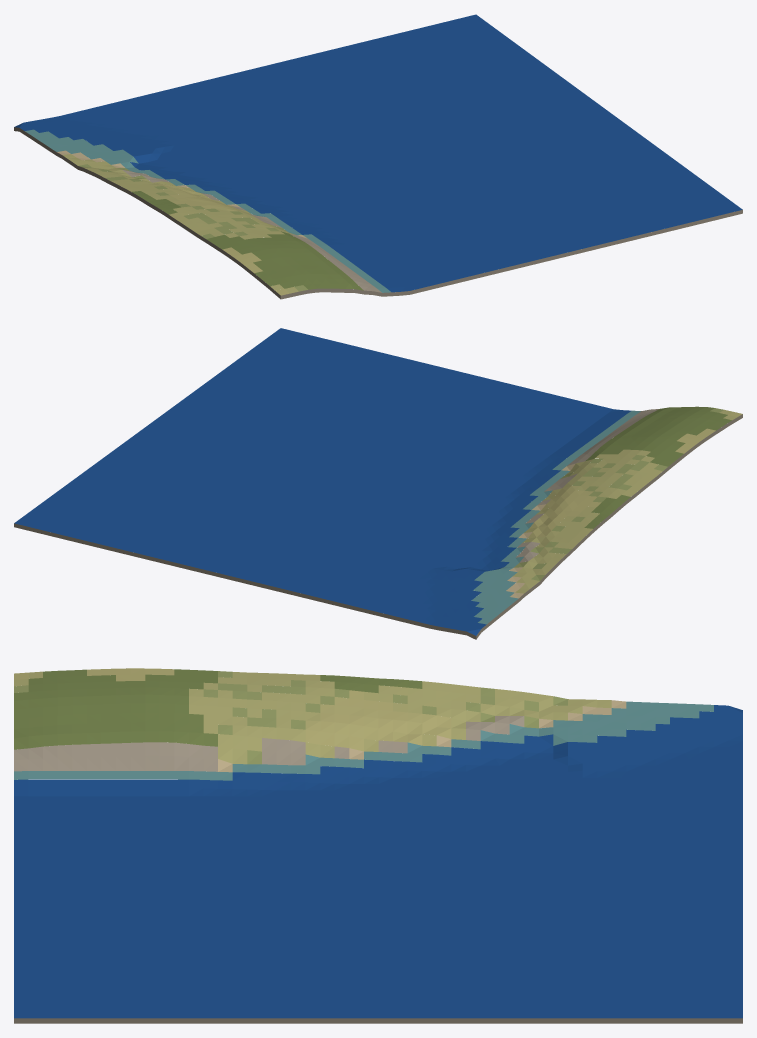
File: parca_+15_-3-uzak.glb
3 renders of one model, top to bottom at view 1: azimuth 30°, elevation 25°; view 2: azimuth 150°, elevation 25°; view 3: azimuth 270°, elevation 25°, orthographic. The views are drawn at different scales.
Visible parts, largest first — view 1: parca_+15_-3_arazi_uzak; view 2: parca_+15_-3_arazi_uzak; view 3: parca_+15_-3_arazi_uzak.
Part boxes in pixels (<box>): parca_+15_-3_arazi_uzak: <box>14,14,742,299</box>; parca_+15_-3_arazi_uzak: <box>14,328,742,639</box>; parca_+15_-3_arazi_uzak: <box>14,668,742,1023</box>.
Size of the model in its own units: 1000 by 71.23 by 1000.
